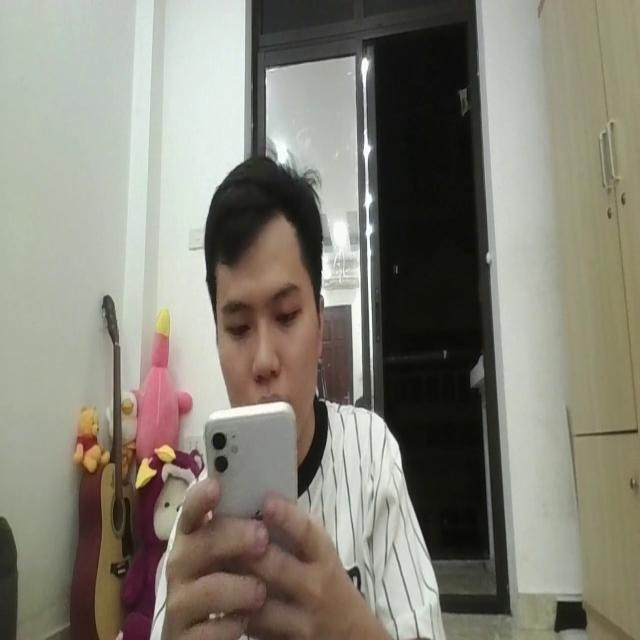phone: (198, 399, 298, 569)
student: (151, 152, 444, 640)
